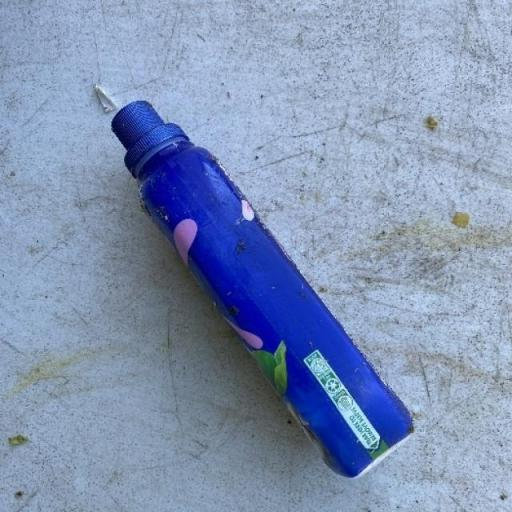plastic: (92, 82, 416, 479)
